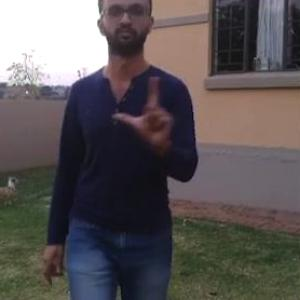land_hand: (109, 65, 179, 148)
